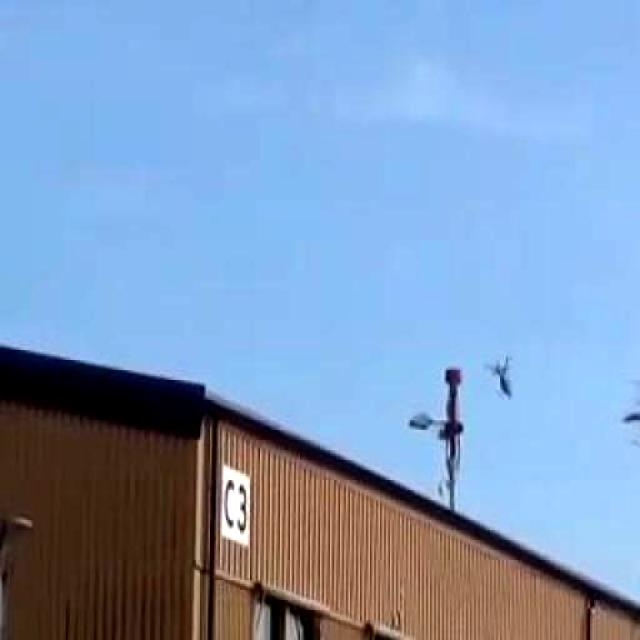drone: (476, 346, 526, 414)
